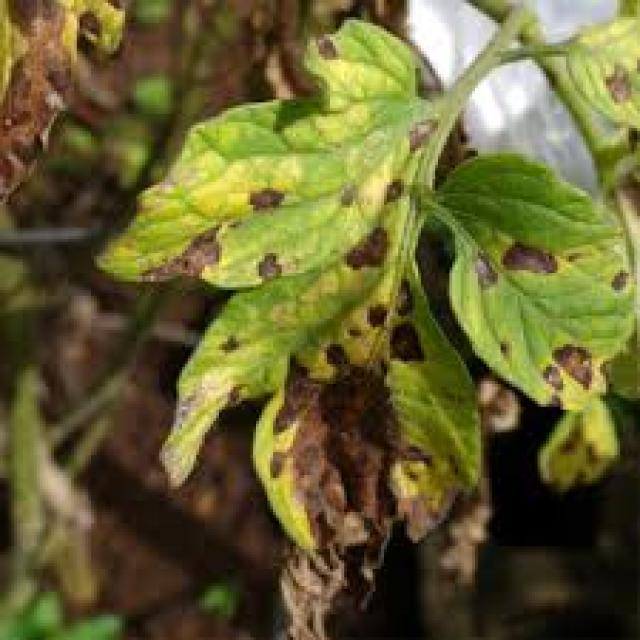black-spot: (255, 322, 500, 617)
